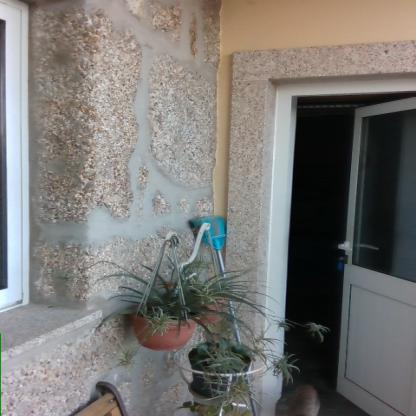semi: (239, 71, 415, 415)
